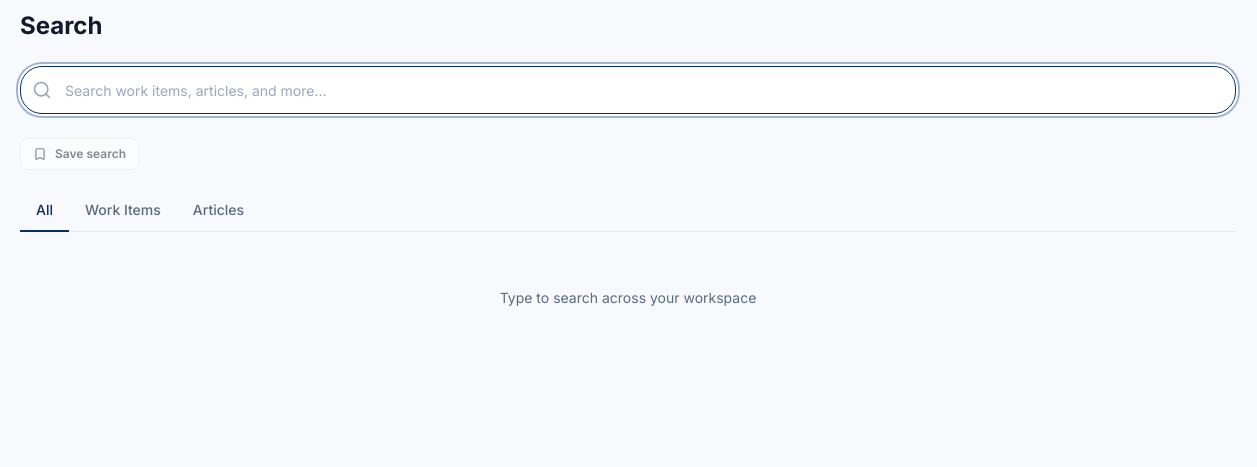
SearchView › shows empty state when there are no results
The width and height of the screenshot is (1257, 467).
Type "xyz" into the search field.
click(628, 90); type("xyz")  # box [20,66,1236,114]
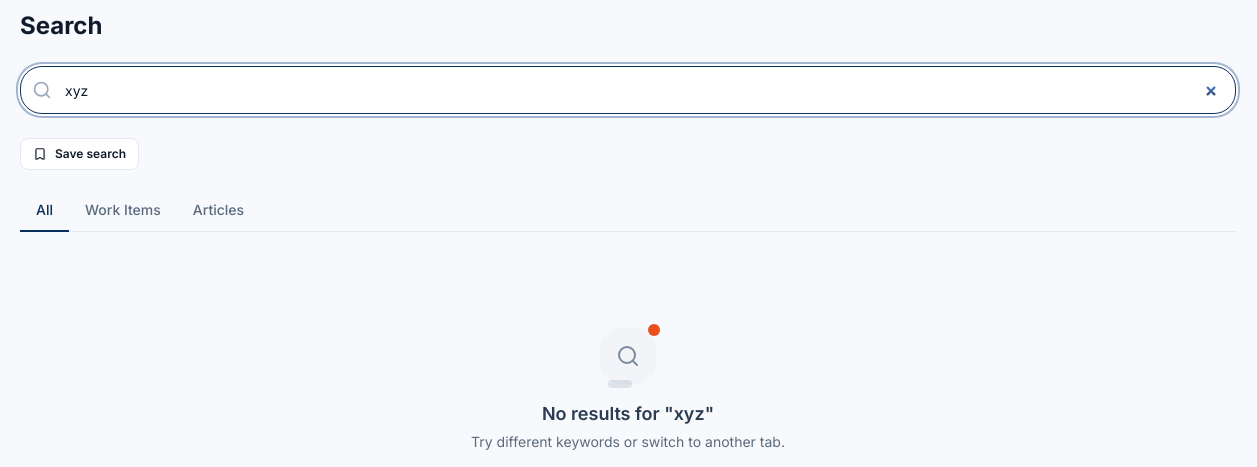
Result: the heading "No results for \"xyz\"" is shown at [542,400,714,428]
